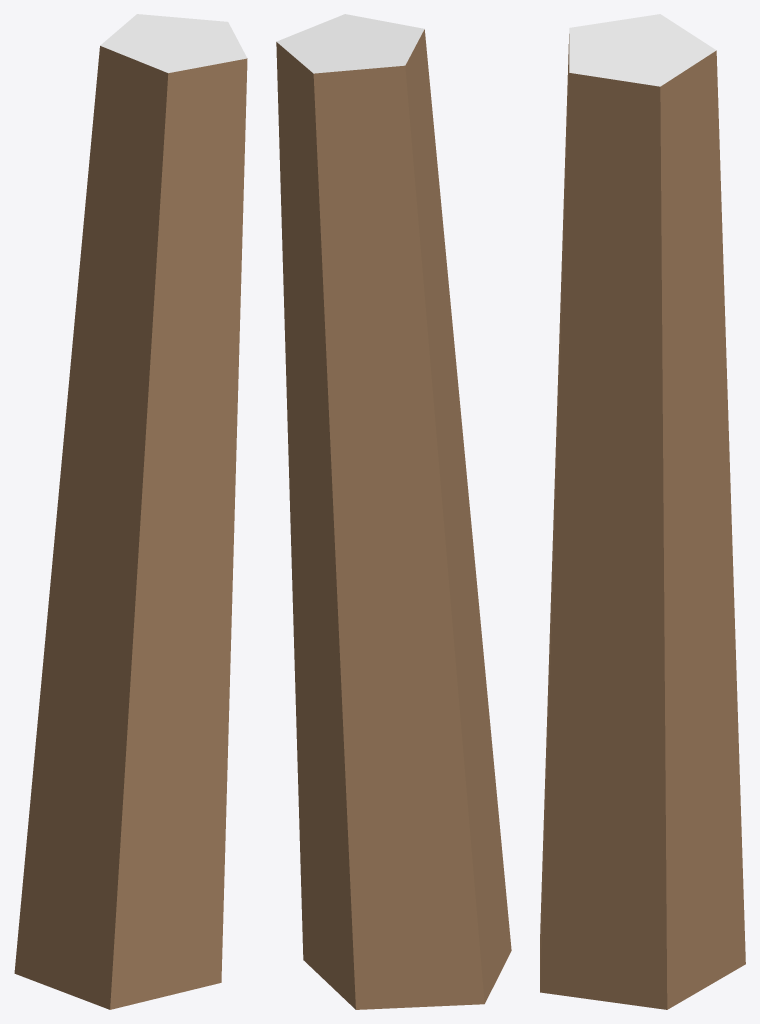
Rendered from Palm_Stump_Snow_01_LOD.fbx.
3 views of the same model, side by side, from view 1: azimuth 30°, elevation 25°; view 2: azimuth 150°, elevation 25°; view 3: azimuth 270°, elevation 25° (orthographic). The views are drawn at different scales.
Visible parts, largest first — view 1: Palm_Stump_Snow_01_LOD0; view 2: Palm_Stump_Snow_01_LOD0; view 3: Palm_Stump_Snow_01_LOD0.
Boxes of the visible parts, <box> form: Palm_Stump_Snow_01_LOD0: <box>14,14,247,1009</box>; Palm_Stump_Snow_01_LOD0: <box>276,14,511,1009</box>; Palm_Stump_Snow_01_LOD0: <box>540,14,745,1009</box>.
Size of what is drawn, in the model's own units: 46.89 by 194 by 38.21.
